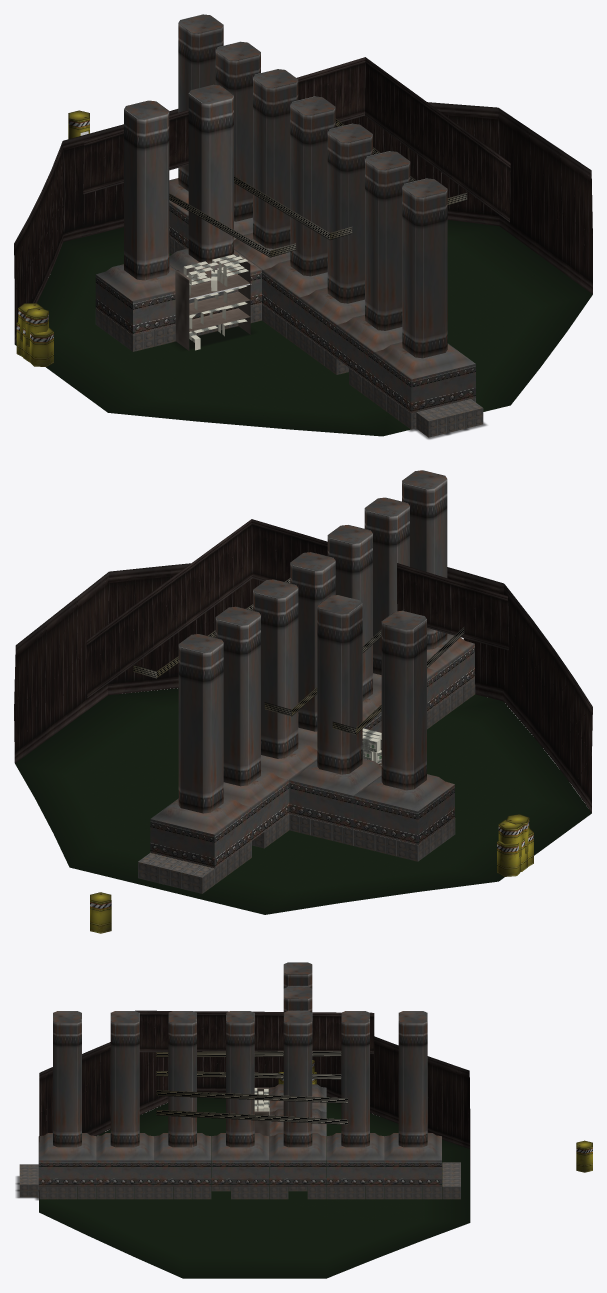
Rendered from room_6.glb.
3 renders of one model, top to bottom at view 1: azimuth 30°, elevation 25°; view 2: azimuth 150°, elevation 25°; view 3: azimuth 270°, elevation 25°, orthographic. The views are drawn at different scales.
Visible parts, largest first — view 1: shaft (×9), floor, walls, head (×8), polySurface2, gagTank1 (×2), Lights6, Lights4, shadow, polySurface3, polySurface4, polySurface5 (+1 smaller); view 2: shaft (×9), floor, walls, head (×8), gagTank1 (×2), Lights6; view 3: floor, shaft (×9), head (×9), walls, Lights1, Lights2, Lights4, Lights6, gagTank1.
Boxes of the visible parts, left/top/right/bottom form: shaft (×9): left=124, top=14, right=447, bottom=358; floor: left=15, top=220, right=592, bottom=436; walls: left=14, top=57, right=592, bottom=343; head (×8): left=95, top=178, right=475, bottom=413; polySurface2: left=175, top=255, right=253, bottom=350; gagTank1 (×2): left=25, top=307, right=53, bottom=366; Lights6: left=169, top=193, right=295, bottom=257; Lights4: left=234, top=176, right=352, bottom=239; shadow: left=172, top=326, right=255, bottom=350; polySurface3: left=189, top=275, right=251, bottom=299; polySurface4: left=189, top=291, right=250, bottom=315; polySurface5: left=189, top=308, right=251, bottom=331; shaft (×9): left=178, top=470, right=447, bottom=813; floor: left=15, top=688, right=591, bottom=914; walls: left=14, top=519, right=592, bottom=812; head (×8): left=150, top=633, right=474, bottom=868; gagTank1 (×2): left=90, top=840, right=520, bottom=933; Lights6: left=332, top=627, right=464, bottom=734; floor: left=39, top=1096, right=470, bottom=1278; shaft (×9): left=53, top=962, right=427, bottom=1147; head (×9): left=38, top=1084, right=441, bottom=1186; walls: left=39, top=1010, right=470, bottom=1203; Lights1: left=156, top=1109, right=347, bottom=1124; Lights2: left=156, top=1090, right=347, bottom=1103; Lights4: left=156, top=1071, right=341, bottom=1079; Lights6: left=156, top=1051, right=341, bottom=1057; gagTank1: left=576, top=1140, right=592, bottom=1172.
Size of the model in its own units: 138 by 58.64 by 181.
Materials: 23 (21 with a texture image).
